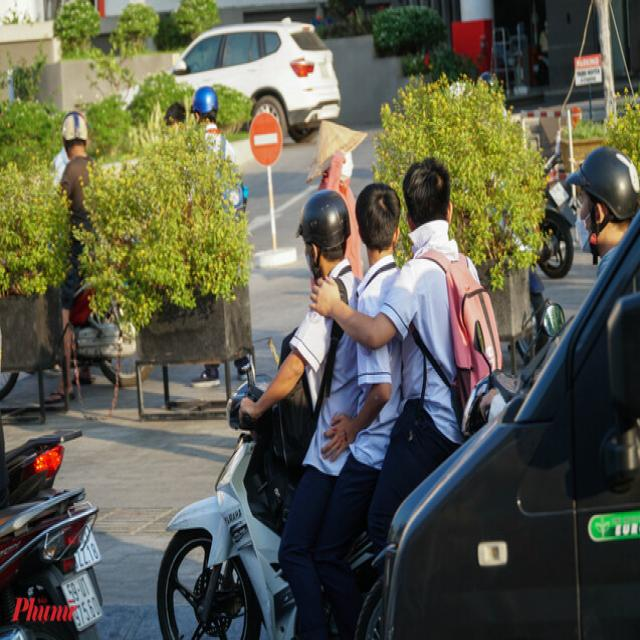helmet: (295, 190, 350, 249)
no_helmet: (404, 152, 455, 244), (355, 174, 399, 251)
